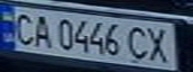0: (54, 16, 75, 52)
4: (69, 17, 90, 54), (87, 19, 106, 55)
6: (103, 20, 127, 57)
A: (30, 12, 54, 48)
C: (9, 10, 39, 46), (124, 24, 151, 62)
X: (142, 24, 175, 65)
